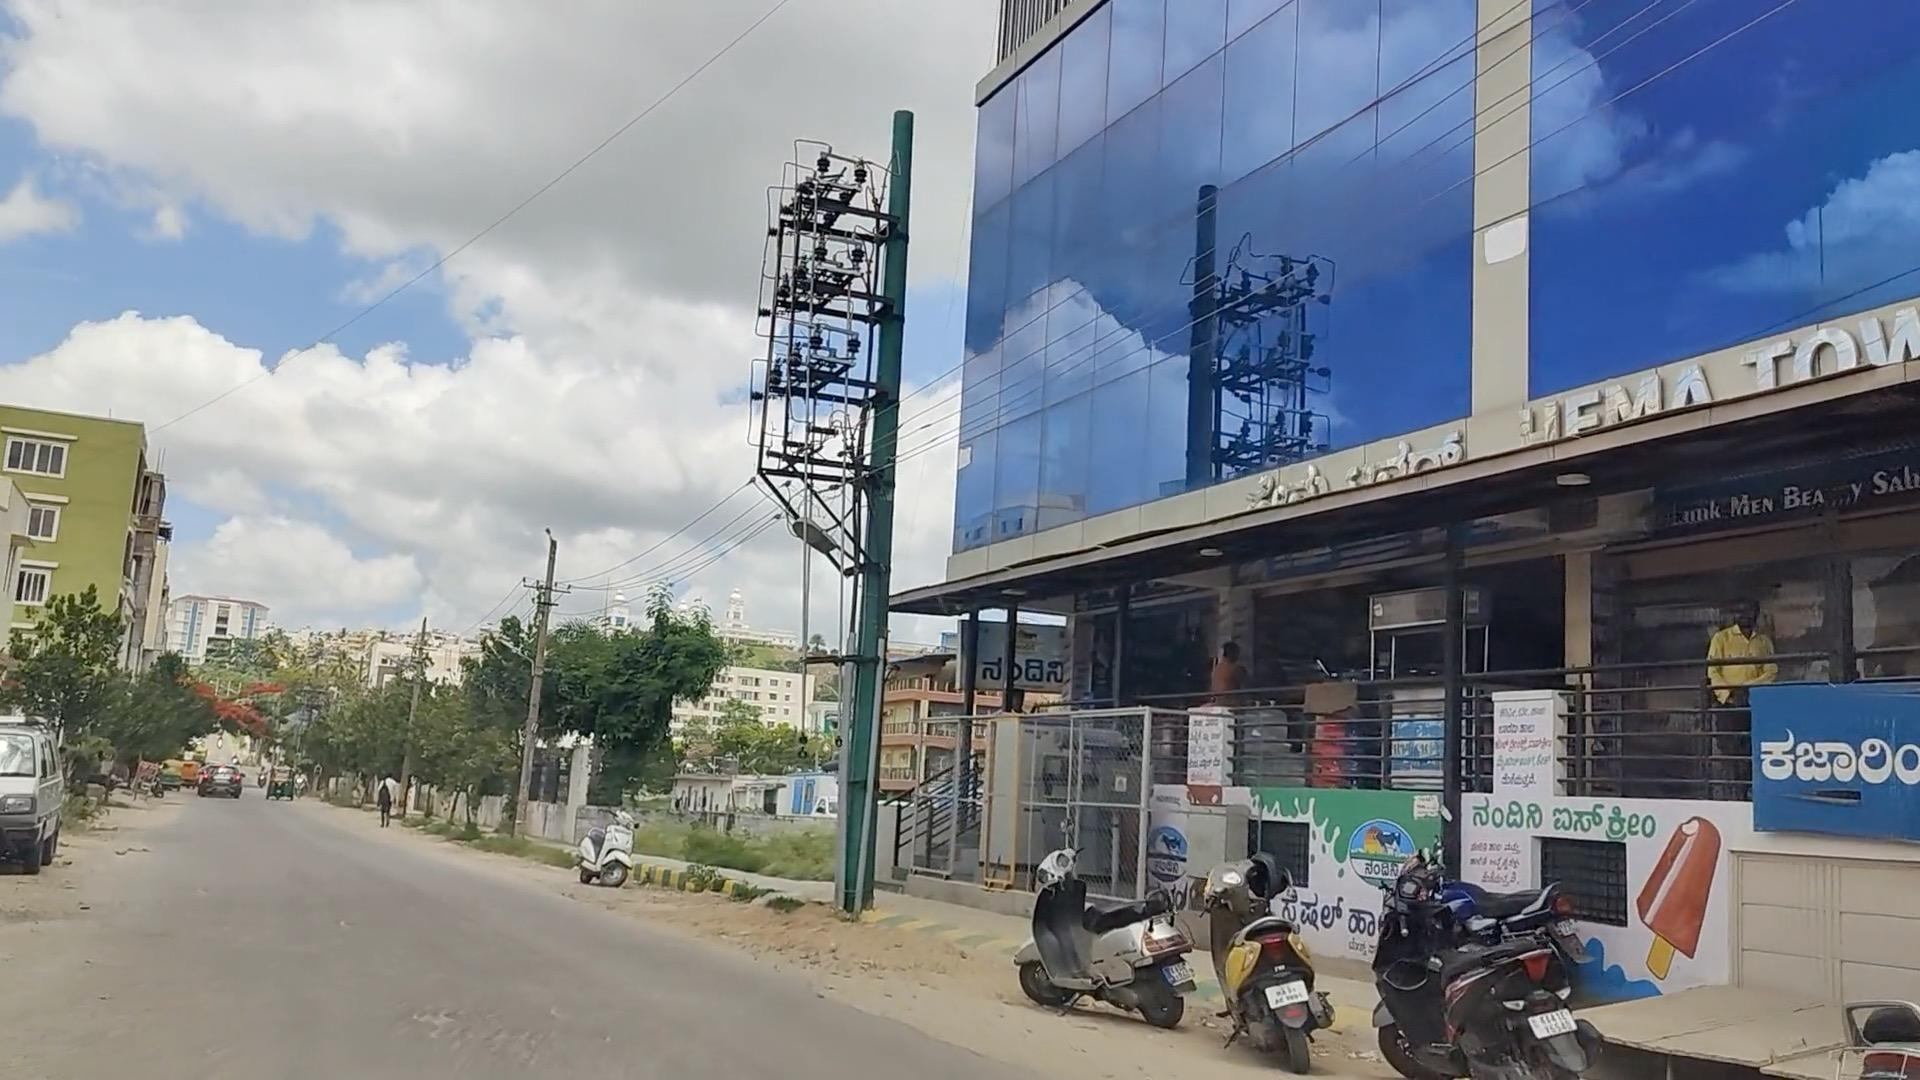RoadDamages: (397, 982, 684, 1080)
